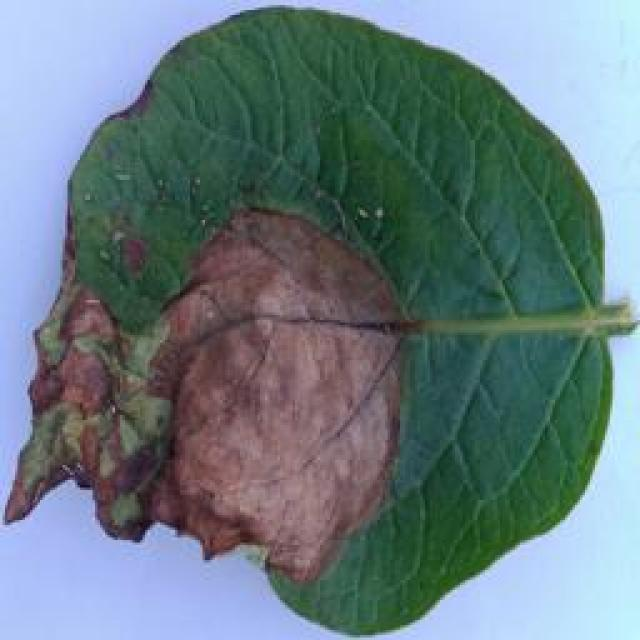Potato_Late_Blight: (4, 7, 622, 630)
